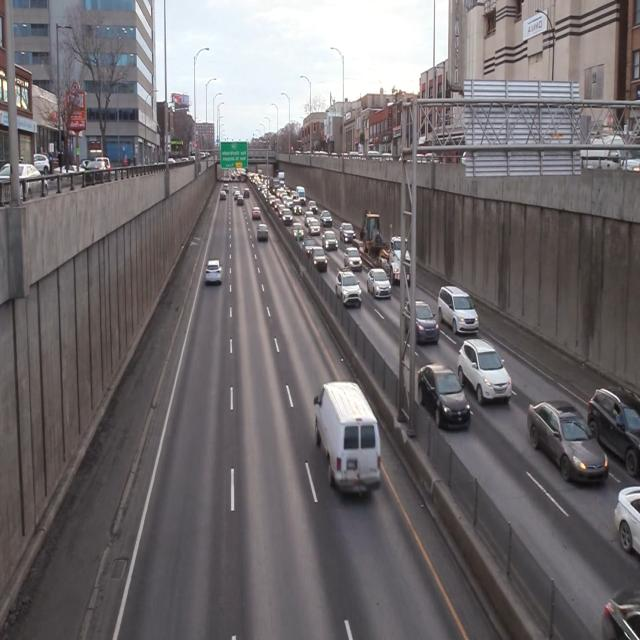Car: (310, 378, 382, 506), (530, 391, 607, 490), (417, 360, 469, 440), (461, 335, 512, 411), (357, 219, 411, 285), (437, 285, 478, 339), (406, 301, 439, 347), (335, 272, 361, 309), (368, 270, 390, 297), (204, 260, 224, 286), (311, 247, 326, 271), (339, 222, 356, 242), (323, 231, 338, 252), (345, 250, 361, 268), (255, 223, 270, 242), (252, 206, 261, 222)
